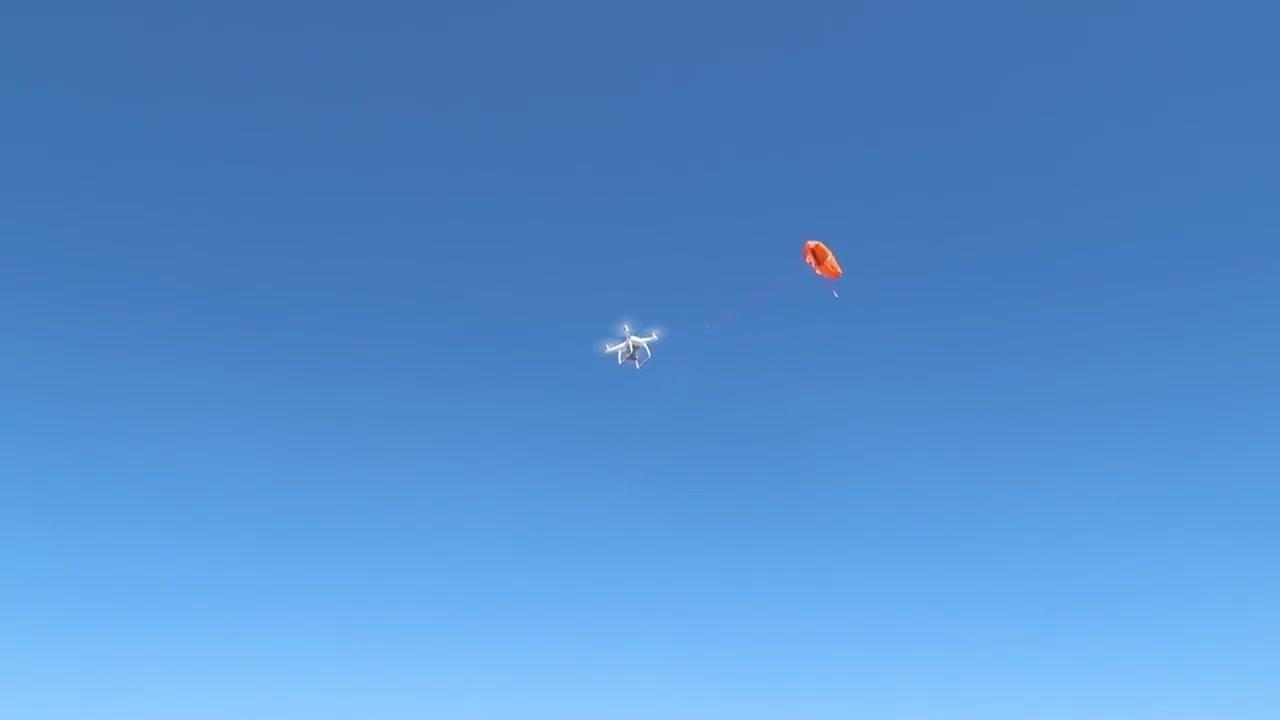UAV: (599, 323, 664, 370)
